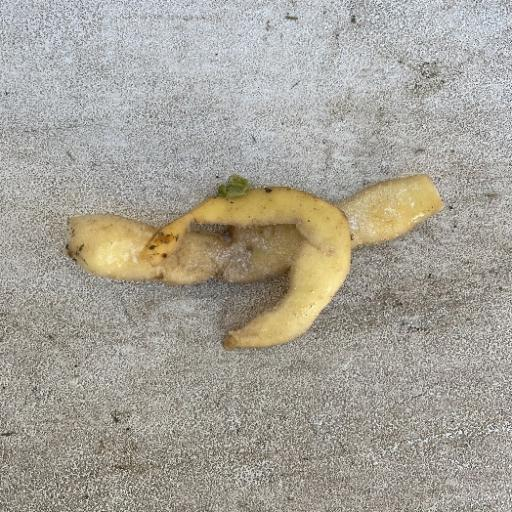Waste: (64, 170, 444, 352)
